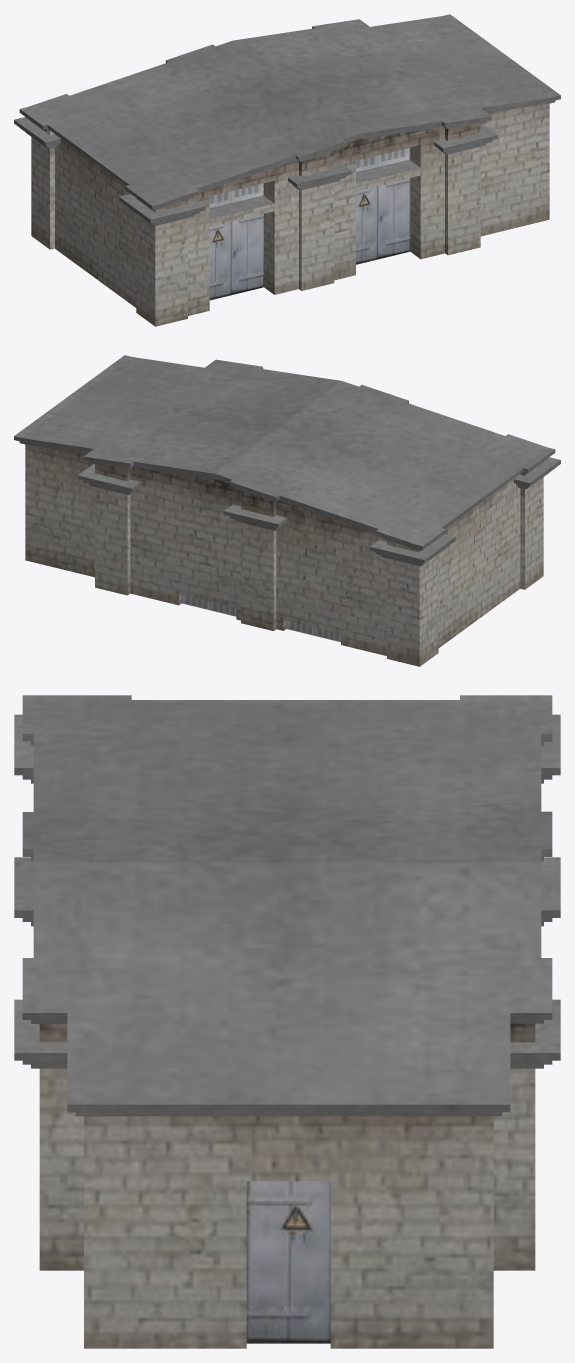
The model's file is transformer.glb.
3 renders of one model, top to bottom at view 1: azimuth 30°, elevation 25°; view 2: azimuth 150°, elevation 25°; view 3: azimuth 270°, elevation 25°, orthographic. The views are drawn at different scales.
Parts seen in each view (by area): view 1: Object_2; view 2: Object_2; view 3: Object_2.
Boxes of the visible parts, x1,y1,x2,y2 form: Object_2: [14, 14, 560, 326]; Object_2: [14, 355, 560, 666]; Object_2: [14, 695, 560, 1348].
Size of the model in its own units: 116 by 38 by 65.1.
Materials: 1 (1 with a texture image).
